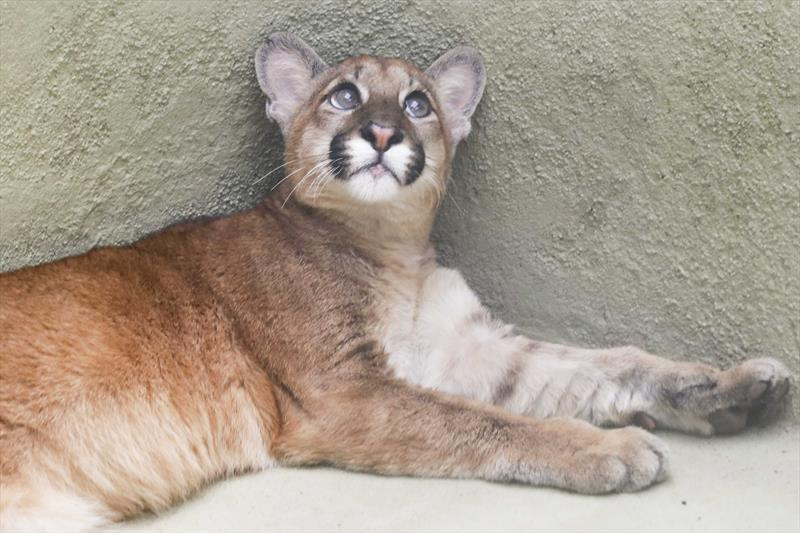OncaParda: (8, 28, 795, 522)
